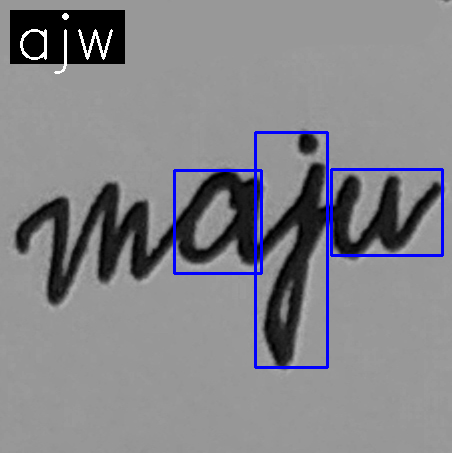a: (171, 163, 269, 277)
j: (258, 127, 330, 371)
m: (40, 175, 158, 307)
u: (331, 166, 410, 266)
